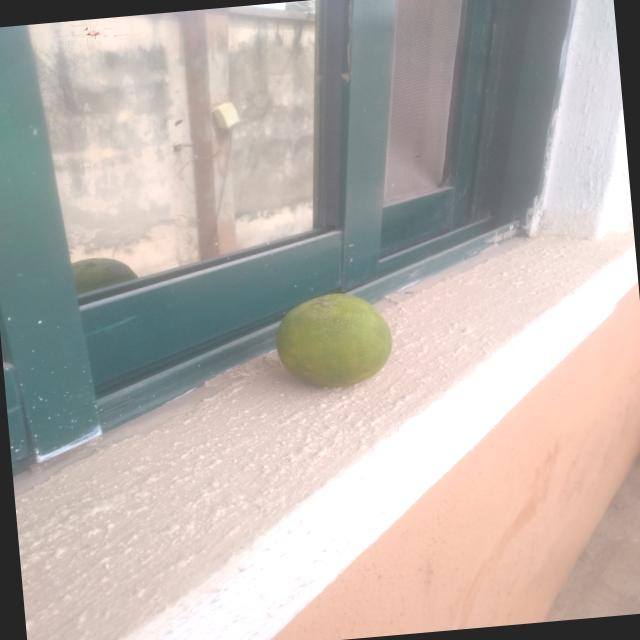agrume: (232, 274, 416, 416)
